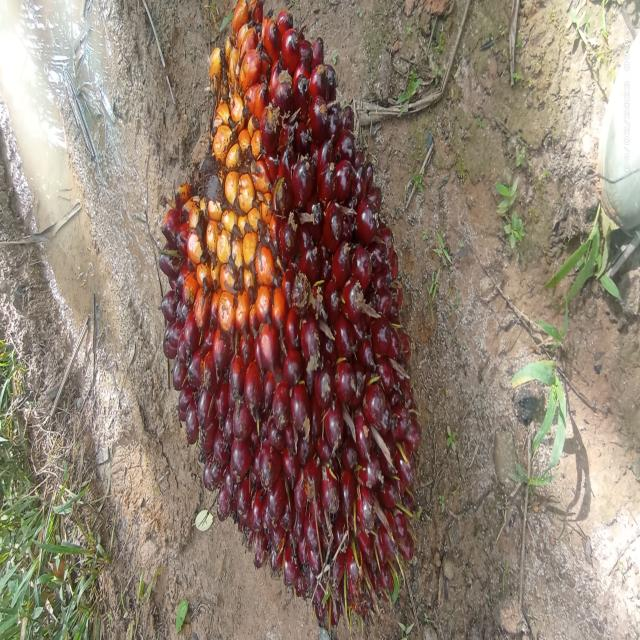fraksi 3: (130, 0, 436, 610)
